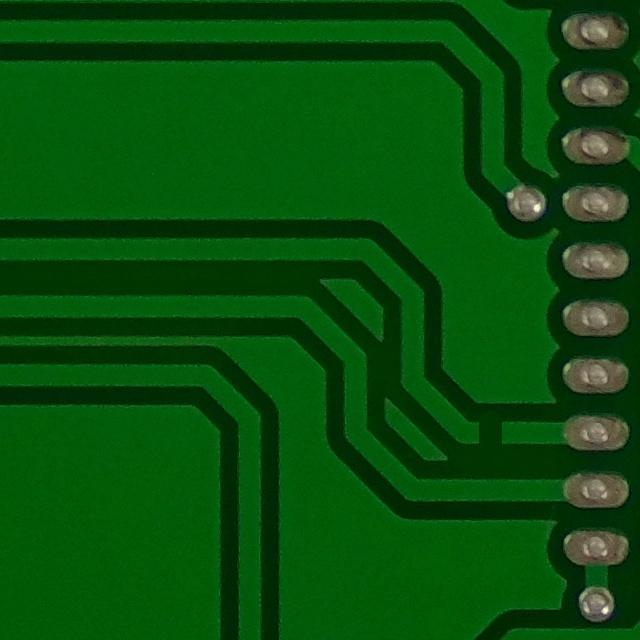open_circuit: (463, 402, 519, 454)
